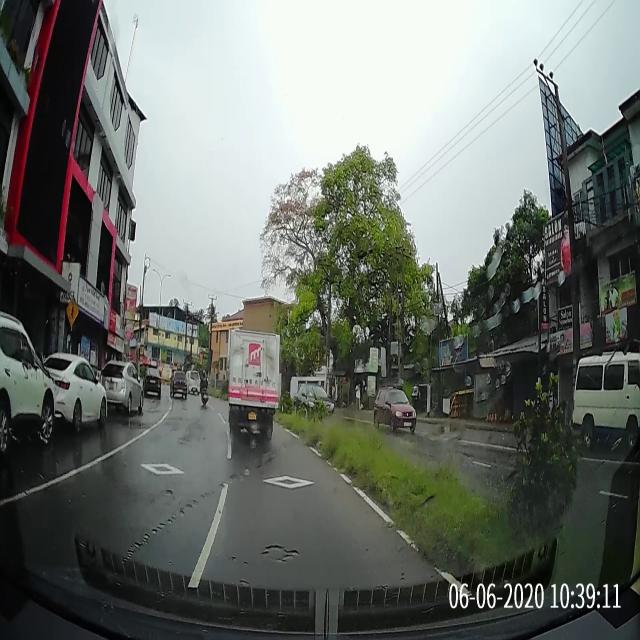diamond: (220, 462, 372, 496)
